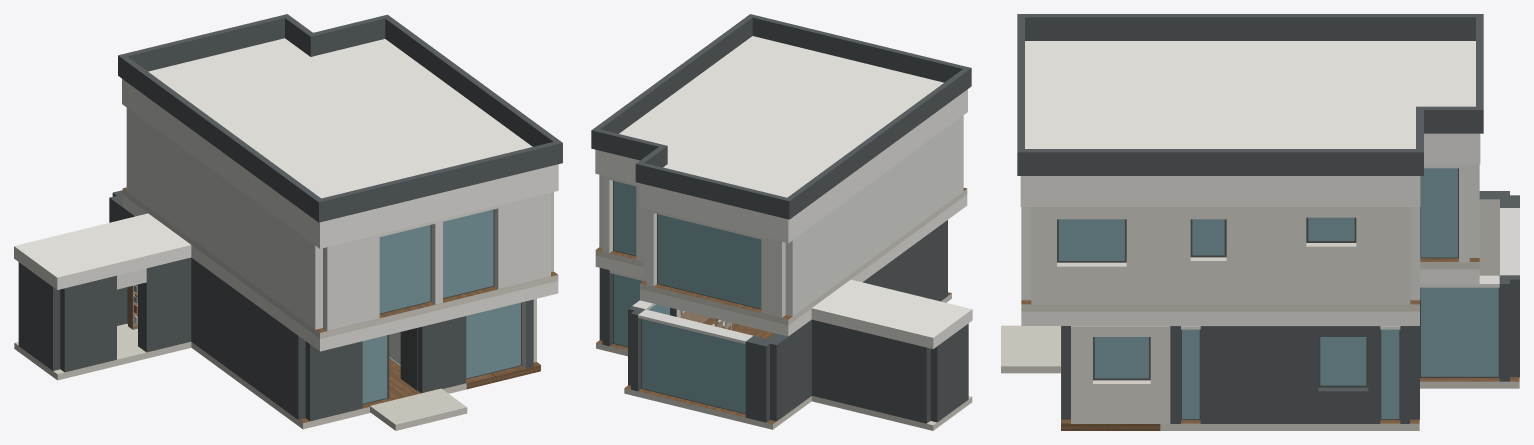
The picture shows the model from 3 angles, left to right: view 1: azimuth 30°, elevation 25°; view 2: azimuth 150°, elevation 25°; view 3: azimuth 270°, elevation 25°; orthographic projection. The views are drawn at different scales.
Parts seen in each view (by area): view 1: compact-roof-main, upper/east/end, ground/east/end, store-roof, roof-edge-0, roof-edge-5, ground/store-front/end, upper/front/end, upper/front/pier-0, roof-edge-1, ground/store-front/pier-0, ground/entrance/end (+24 smaller); view 2: compact-roof-main, upper/east/end, ground/store-rear/end, upper/primary-rear/glass-0, ground/living-rear/glass-0, ground/east/end, store-roof, compact-roof-rear, roof-edge-0, roof-edge-5, roof-edge-1, roof-edge-4 (+22 smaller); view 3: compact-roof-main, roof-edge-5, ground/dining-east/south, roof-edge-1, upper/view-side/bathroom-pier, ground/living-west/glass-0, upper/view-side/laundry-pier, ground-ceiling-0, compact-roof-rear, upper/view-side/end, upper/primary-west/glass-0, upper/slab/0 (+42 smaller).
Boxes of the visible parts, left/top/right/bottom form: compact-roof-main: left=148, top=39, right=558, bottom=248; upper/east/end: left=126, top=108, right=322, bottom=329; ground/east/end: left=109, top=194, right=305, bottom=419; store-roof: left=14, top=213, right=191, bottom=289; roof-edge-0: left=315, top=140, right=562, bottom=222; roof-edge-5: left=118, top=54, right=324, bottom=222; ground/store-front/end: left=60, top=275, right=116, bottom=372; upper/front/end: left=323, top=234, right=379, bottom=330; upper/front/pier-0: left=494, top=192, right=550, bottom=289; roof-edge-1: left=382, top=15, right=562, bottom=164; ground/store-front/pier-0: left=138, top=257, right=191, bottom=352; ground/entrance/end: left=305, top=341, right=362, bottom=421; compact-roof-main: left=595, top=36, right=967, bottom=225; upper/east/end: left=785, top=115, right=963, bottom=316; ground/store-rear/end: left=812, top=319, right=930, bottom=423; upper/primary-rear/glass-0: left=658, top=214, right=761, bottom=308; ground/living-rear/glass-0: left=642, top=319, right=745, bottom=413; ground/east/end: left=764, top=220, right=947, bottom=421; store-roof: left=811, top=279, right=972, bottom=348; compact-roof-rear: left=639, top=165, right=811, bottom=243; roof-edge-0: left=748, top=14, right=971, bottom=87; roof-edge-5: left=784, top=68, right=971, bottom=218; roof-edge-1: left=591, top=14, right=754, bottom=149; roof-edge-4: left=635, top=161, right=792, bottom=219; compact-roof-main: left=1020, top=41, right=1420, bottom=206; roof-edge-5: left=1017, top=14, right=1483, bottom=40; ground/dining-east/south: left=1200, top=326, right=1318, bottom=423; roof-edge-1: left=1017, top=149, right=1423, bottom=175; upper/view-side/bathroom-pier: left=1226, top=207, right=1306, bottom=304; ground/living-west/glass-0: left=1421, top=287, right=1498, bottom=376; upper/view-side/laundry-pier: left=1126, top=207, right=1190, bottom=304; ground-ceiling-0: left=1021, top=311, right=1419, bottom=325; compact-roof-rear: left=1420, top=41, right=1480, bottom=164; upper/view-side/end: left=1356, top=207, right=1410, bottom=304; upper/primary-west/glass-0: left=1421, top=168, right=1457, bottom=257; upper/slab/0: left=1021, top=300, right=1419, bottom=311.
Bounding box in the file's own units: 12.61 × 7.75 × 13.
68 materials, 2 textured.
